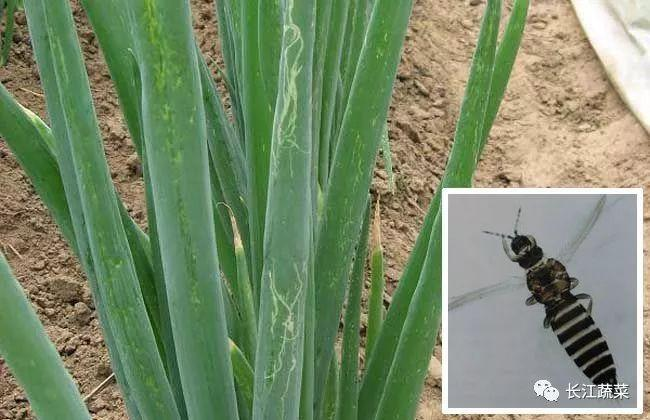Thripidae: (450, 195, 636, 403)
